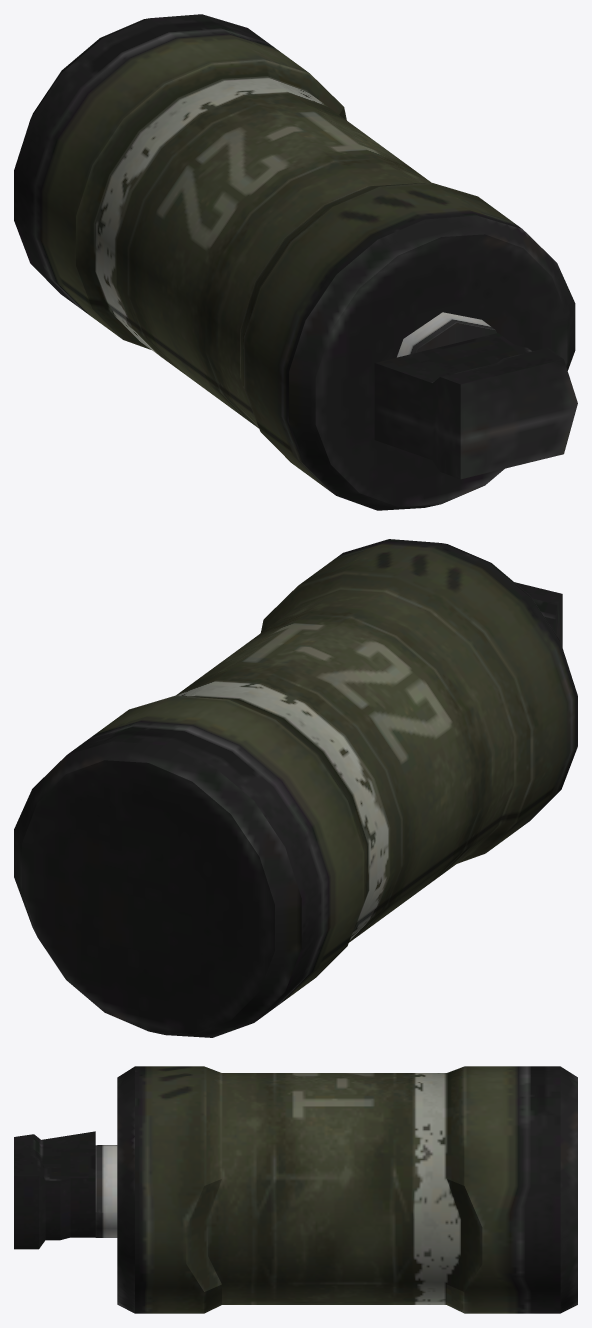
Rendered from t6_wpn_grenade_smoke_projectile_LOD0.obj.
The picture shows the model from 3 angles, top to bottom: view 1: azimuth 30°, elevation 25°; view 2: azimuth 150°, elevation 25°; view 3: azimuth 270°, elevation 25°; orthographic projection. The views are drawn at different scales.
Parts seen in each view (by area): view 1: mtl_t6_wpn_grenade_smoke; view 2: mtl_t6_wpn_grenade_smoke; view 3: mtl_t6_wpn_grenade_smoke.
Part boxes in pixels (box(x1,y1,x2,y2)): mtl_t6_wpn_grenade_smoke: box(14, 14, 577, 510); mtl_t6_wpn_grenade_smoke: box(14, 539, 577, 1037); mtl_t6_wpn_grenade_smoke: box(14, 1066, 577, 1313).
Size of the model in its own units: 6.29 by 6.06 by 13.88.
